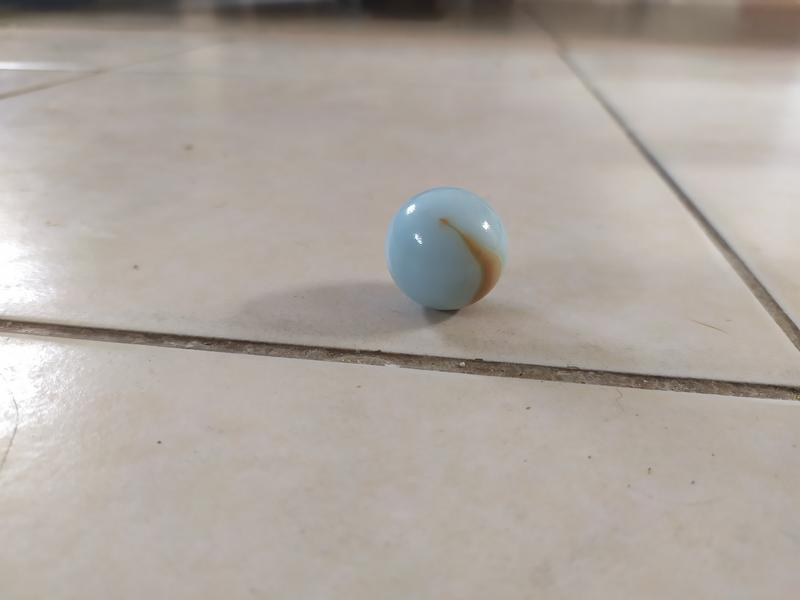Warning: (379, 178, 515, 316)
